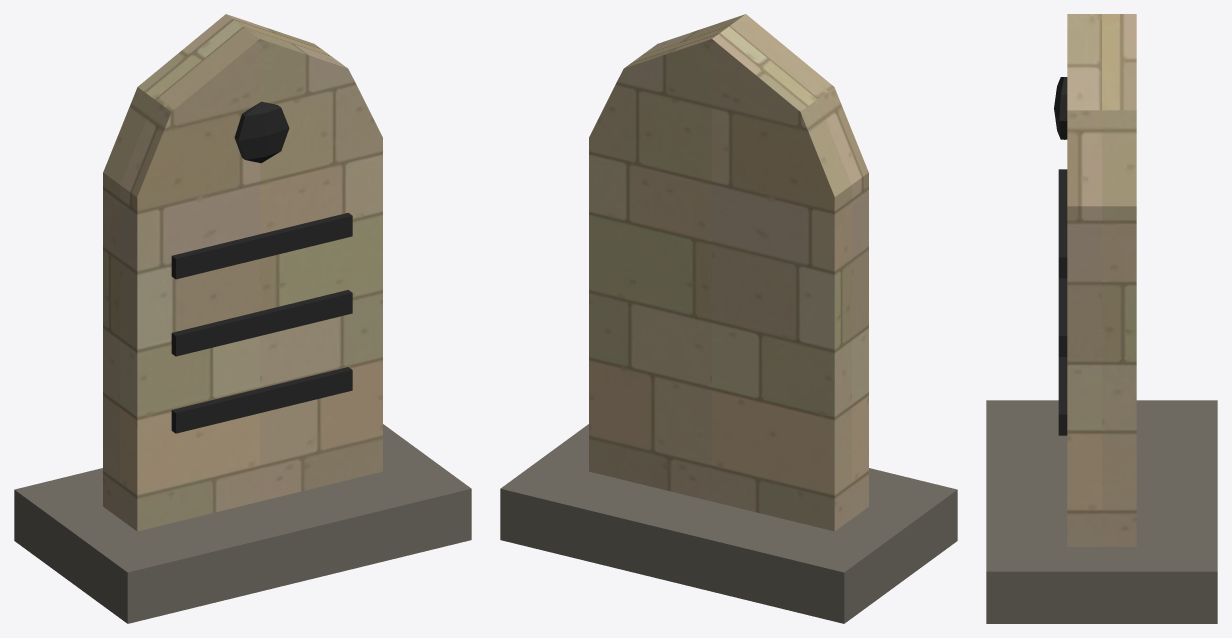
The model's file is gravestone_b.glb.
3 renders of one model, left to right at view 1: azimuth 30°, elevation 25°; view 2: azimuth 150°, elevation 25°; view 3: azimuth 270°, elevation 25°, orthographic. The views are drawn at different scales.
Parts seen in each view (by area): view 1: Gravestone_B; view 2: Gravestone_B; view 3: Gravestone_B.
Boxes of the visible parts, x1,y1,x2,y2 form: Gravestone_B: (14, 14, 471, 623); Gravestone_B: (500, 14, 957, 623); Gravestone_B: (986, 14, 1217, 623).
Bounding box in the file's own units: 0.7 × 1 × 0.3999.
Materials: 3 (2 with a texture image).
